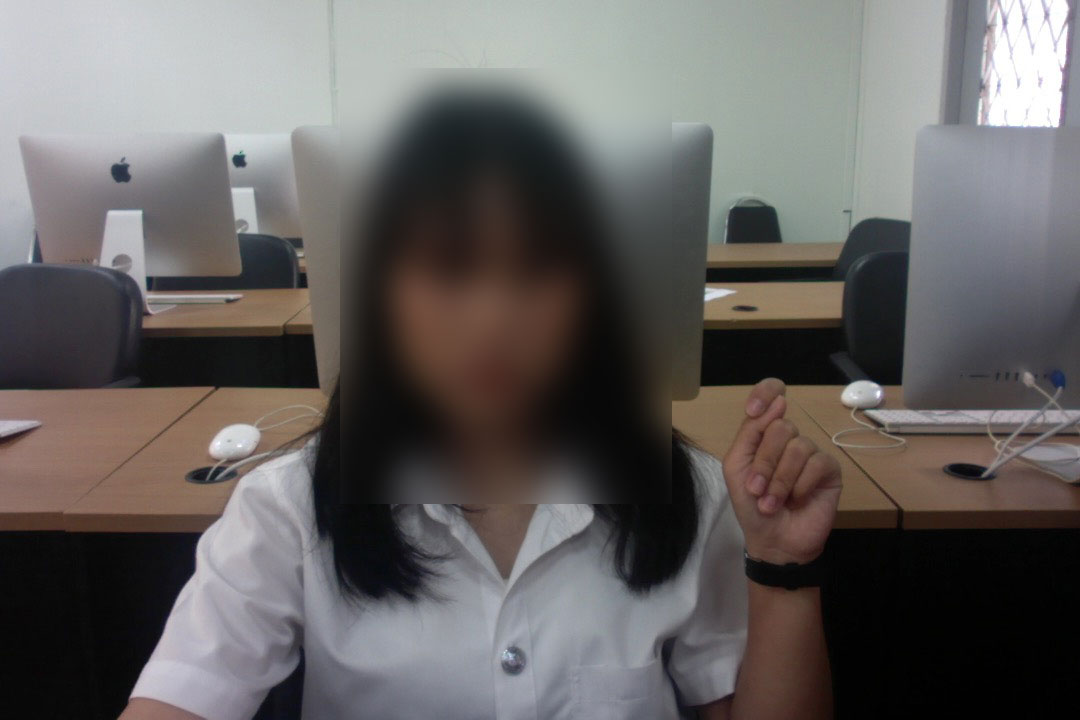tor: (718, 373, 845, 580)
